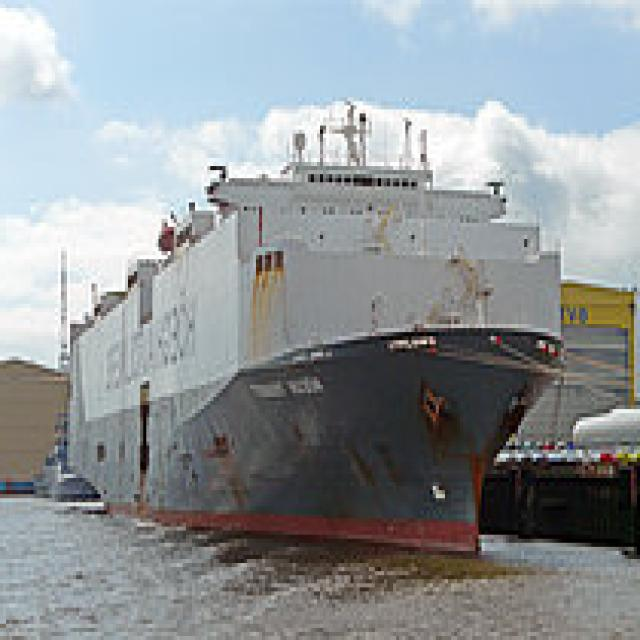Carrier: (70, 85, 573, 559)
